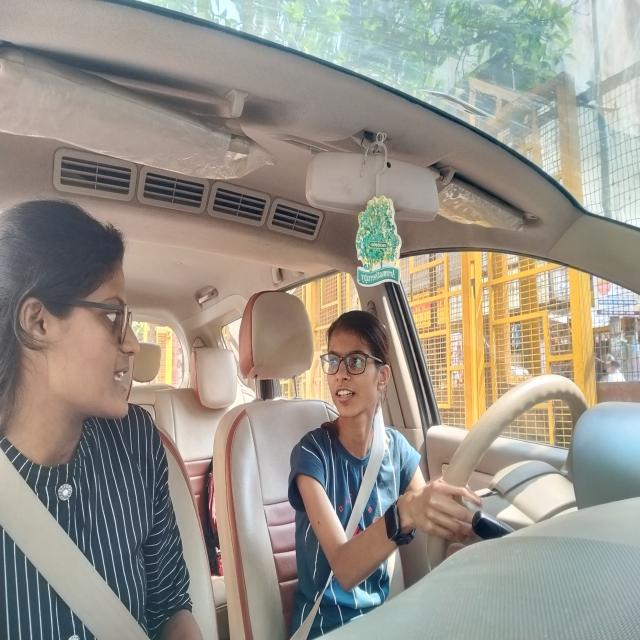LeftRight: (319, 314, 398, 444)
person: (30, 209, 164, 436)
talking: (106, 356, 140, 396), (332, 388, 363, 410)
